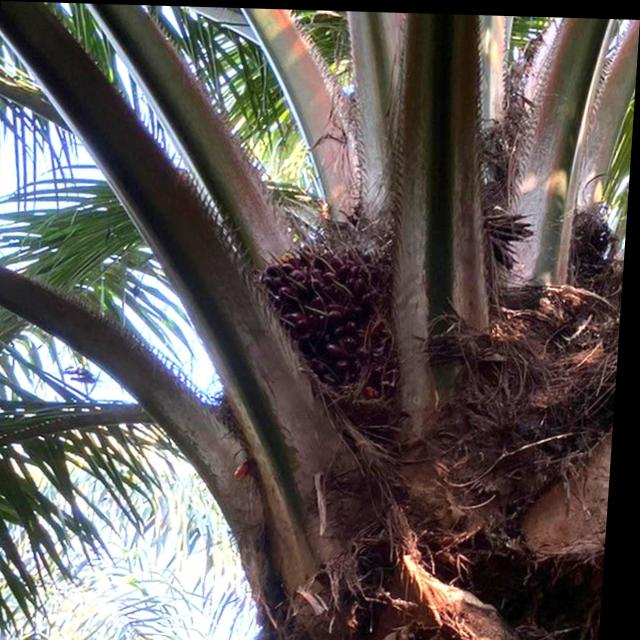ripe: (250, 226, 392, 384)
